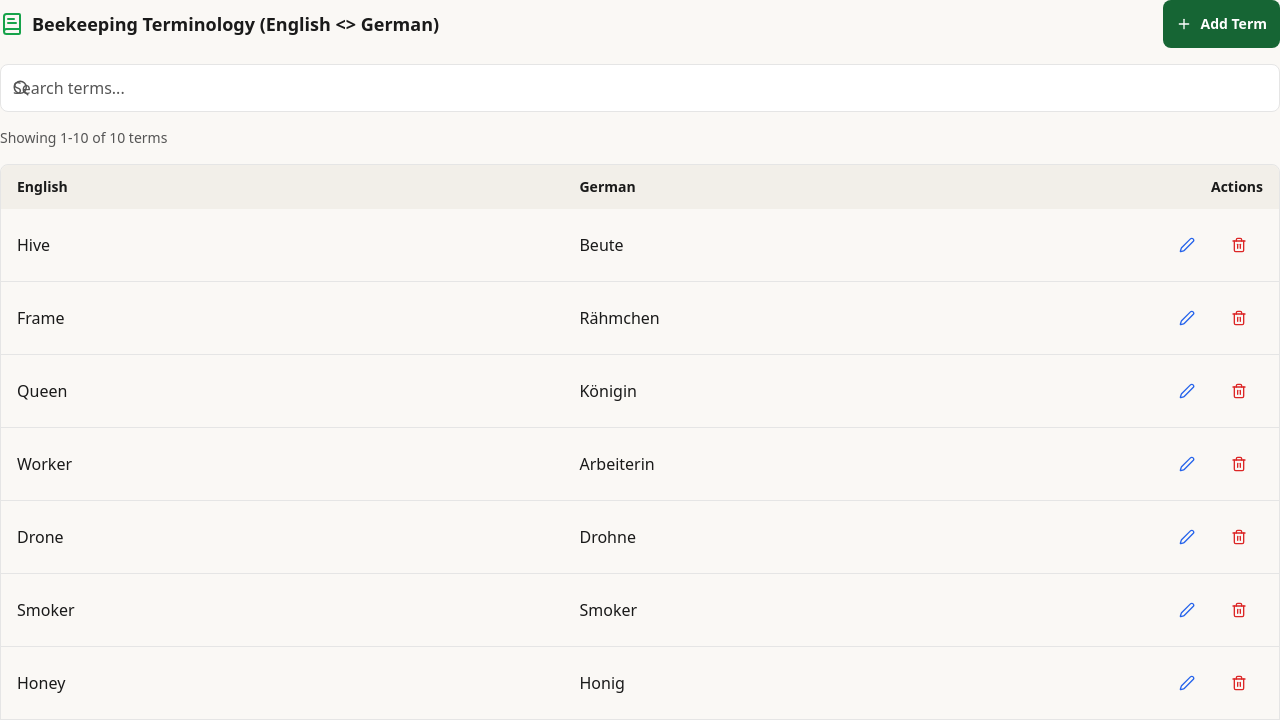
Scenario: TerminologyTable › Edit Term Functionality › should show edit inputs when edit button is clicked
Expected: the text "Hive" is shown, [1,209,564,282]
Click the button titled "Edit" in the row of "Hive" at {"x": 1187, "y": 245}, box [1163,221,1211,269]
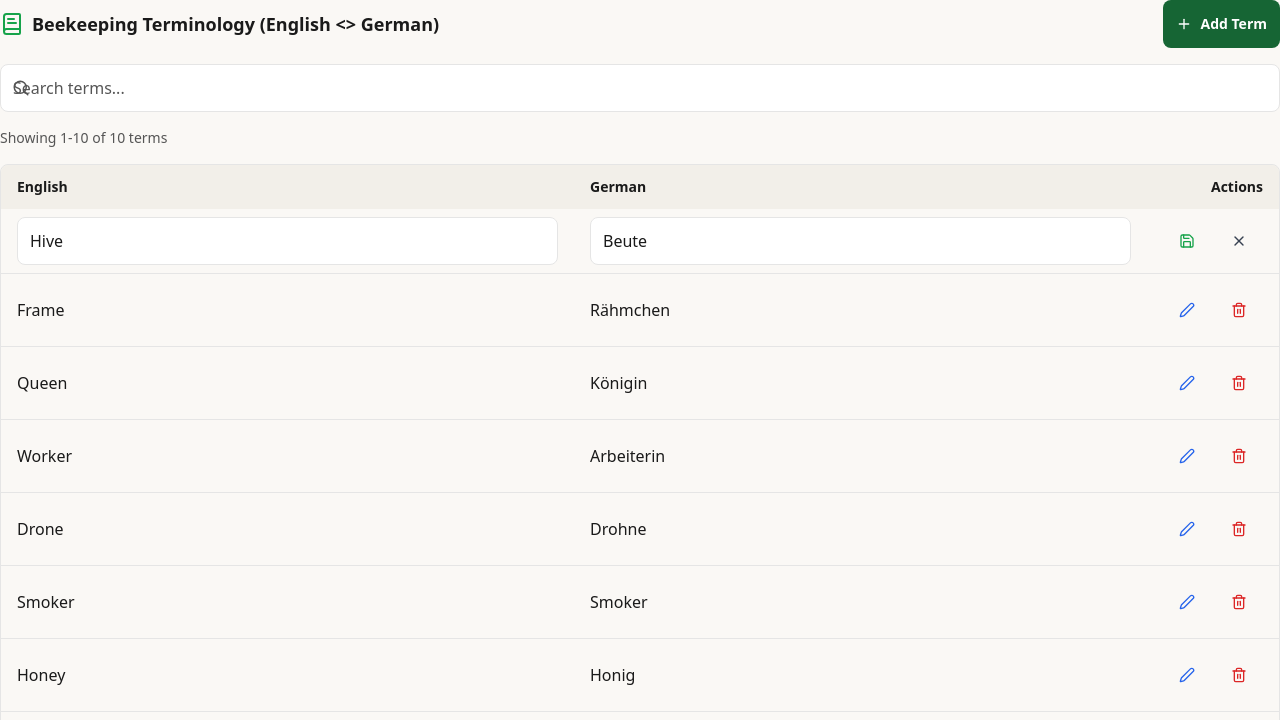
Expected: the 1st field showing "Hive" is shown, [17,217,558,265]
Expected: the 2nd field showing "Beute" is shown, [590,217,1131,265]
